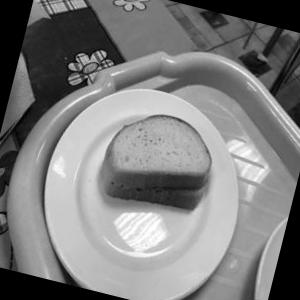bread: (84, 90, 236, 232)
